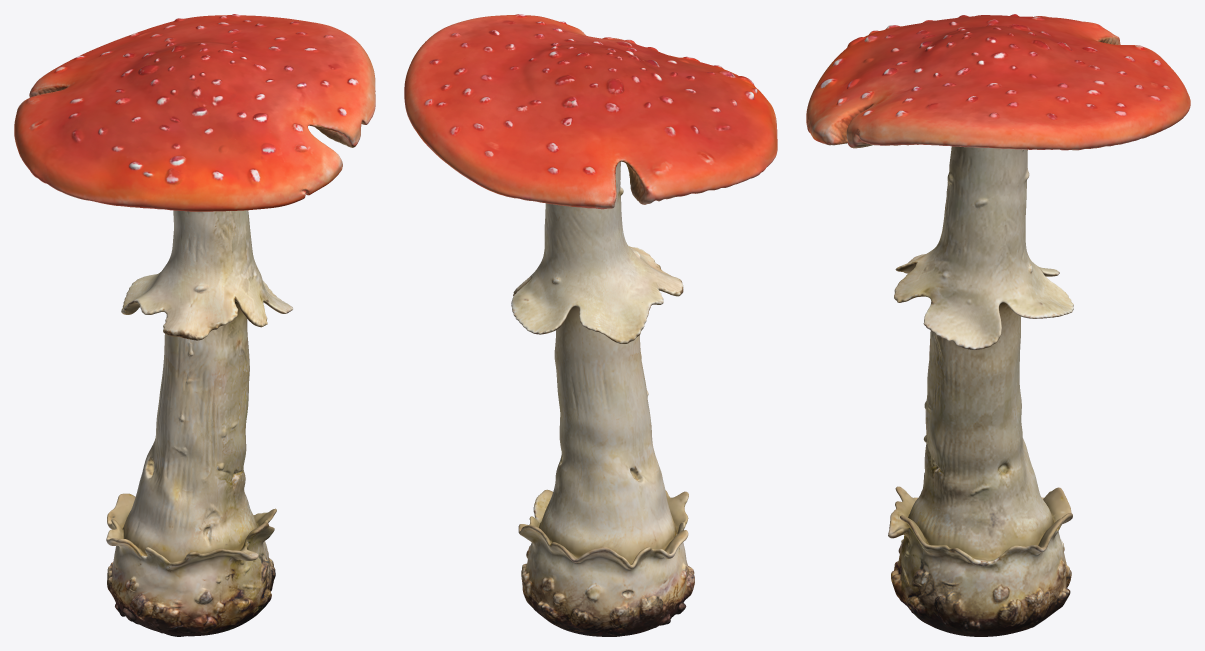
Rendered from singleMushroom.glb.
3 views of the same model, side by side, from view 1: azimuth 30°, elevation 25°; view 2: azimuth 150°, elevation 25°; view 3: azimuth 270°, elevation 25° (orthographic). The views are drawn at different scales.
Visible parts, largest first — view 1: tripo_node_944a40ff-09f7-44ca-919a-b25d817cd43c; view 2: tripo_node_944a40ff-09f7-44ca-919a-b25d817cd43c; view 3: tripo_node_944a40ff-09f7-44ca-919a-b25d817cd43c.
Boxes of the visible parts, x1=… form: tripo_node_944a40ff-09f7-44ca-919a-b25d817cd43c: x1=14, y1=14, x2=375, y2=636; tripo_node_944a40ff-09f7-44ca-919a-b25d817cd43c: x1=404, y1=14, x2=777, y2=636; tripo_node_944a40ff-09f7-44ca-919a-b25d817cd43c: x1=806, y1=14, x2=1190, y2=636.
Bounding box in the file's own units: 0.6031 × 0.9799 × 0.5819.
Materials: 1 (1 with a texture image).
